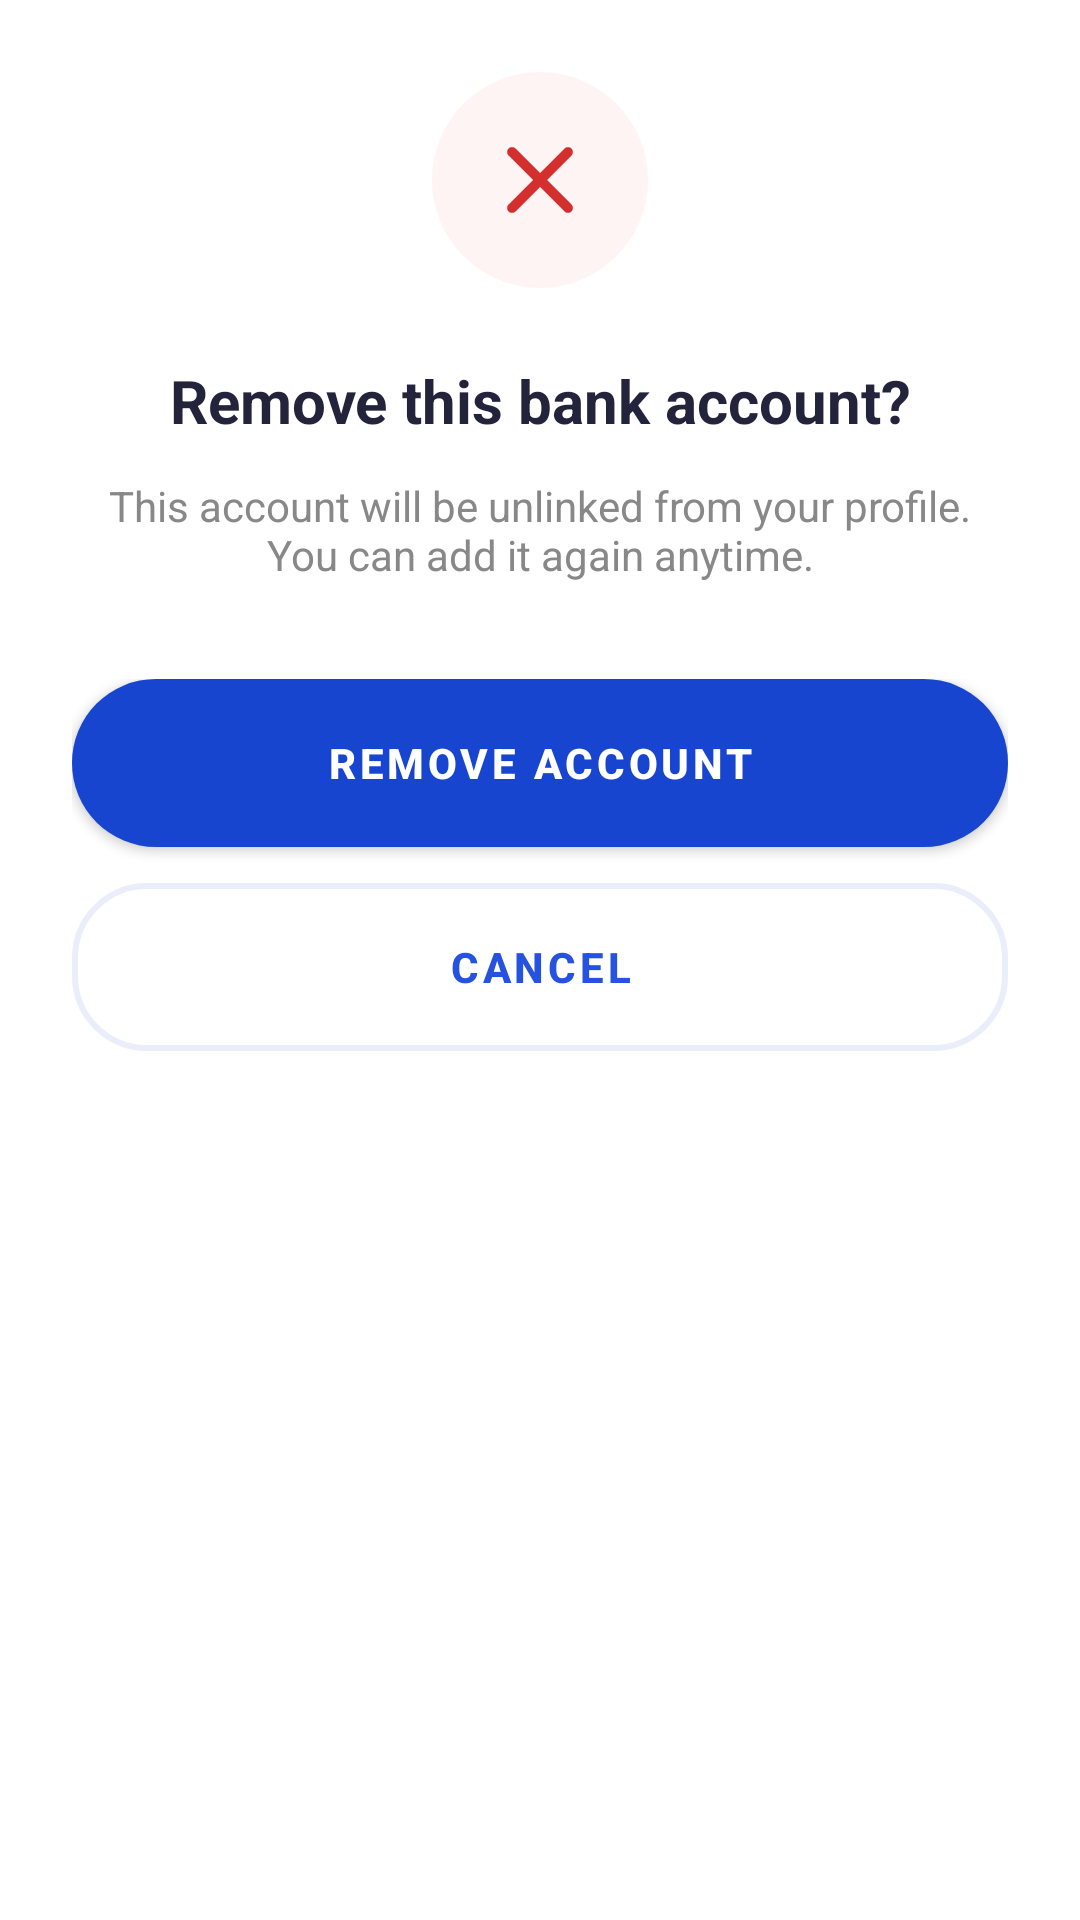

Named icons in this screenshot (1080w x 1920h) and their centers, point (x, y):
close: point (540, 180)
